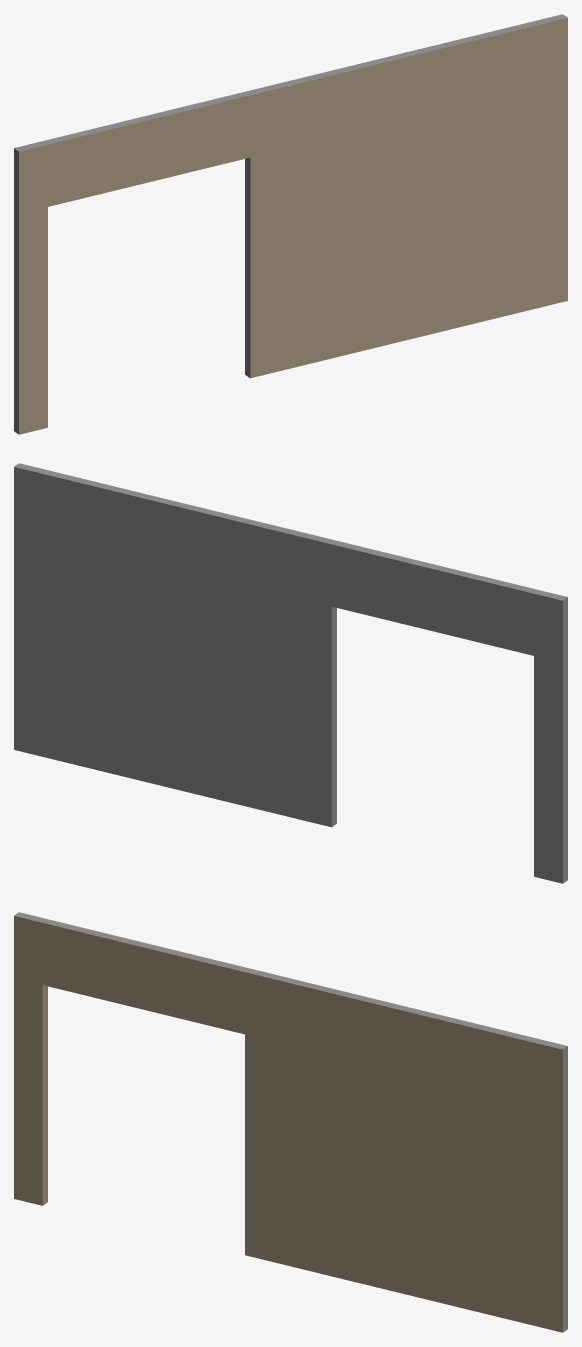
The model's file is Wall 5.FBX.
3 renders of one model, top to bottom at view 1: azimuth 30°, elevation 25°; view 2: azimuth 150°, elevation 25°; view 3: azimuth 330°, elevation 25°, orthographic.
Parts seen in each view (by area): view 1: Wall 5; view 2: Wall 5; view 3: Wall 5.
Boxes of the visible parts, left/top/right/bottom form: Wall 5: left=14, top=14, right=567, bottom=434; Wall 5: left=14, top=463, right=567, bottom=883; Wall 5: left=14, top=912, right=567, bottom=1332.
Bounding box in the file's own units: 1073 × 529 × 17.
